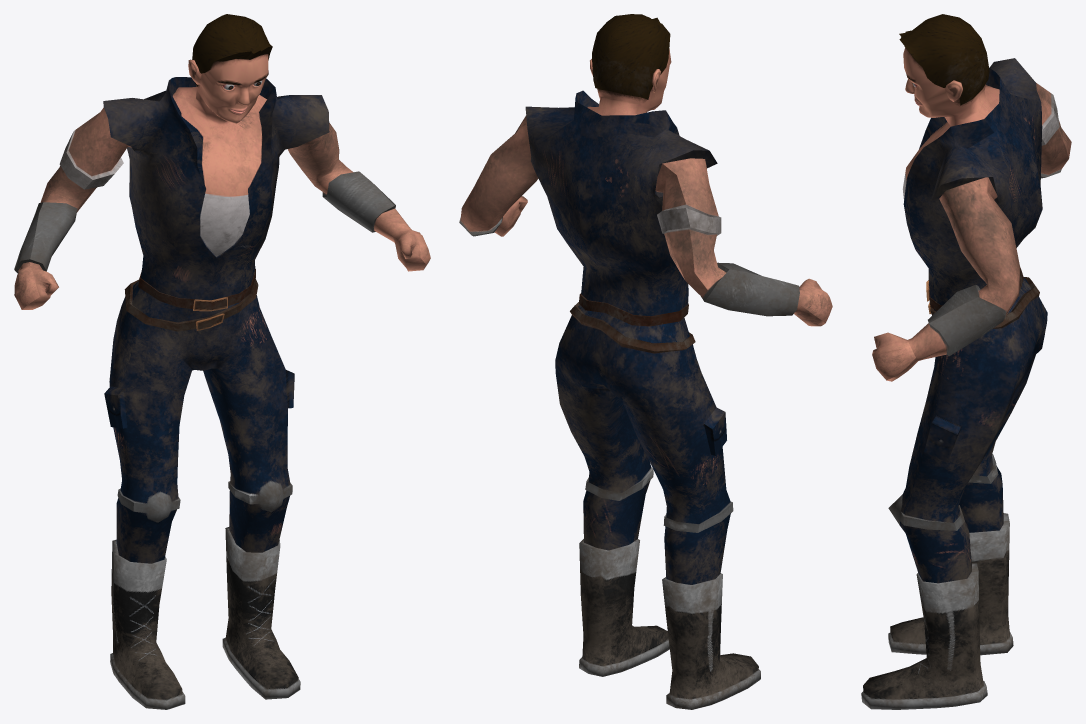
Rendered from Anim_especial_jugador.0008.obj.
3 renders of one model, left to right at view 1: azimuth 30°, elevation 25°; view 2: azimuth 150°, elevation 25°; view 3: azimuth 270°, elevation 25°, orthographic. The views are drawn at different scales.
Visible parts, largest first — view 1: polySurface1; view 2: polySurface1; view 3: polySurface1.
Boxes of the visible parts, <box> form: polySurface1: <box>14,14,430,709</box>; polySurface1: <box>459,14,832,709</box>; polySurface1: <box>861,14,1071,709</box>.
Size of the model in its own units: 5.75 by 9.55 by 2.7.
